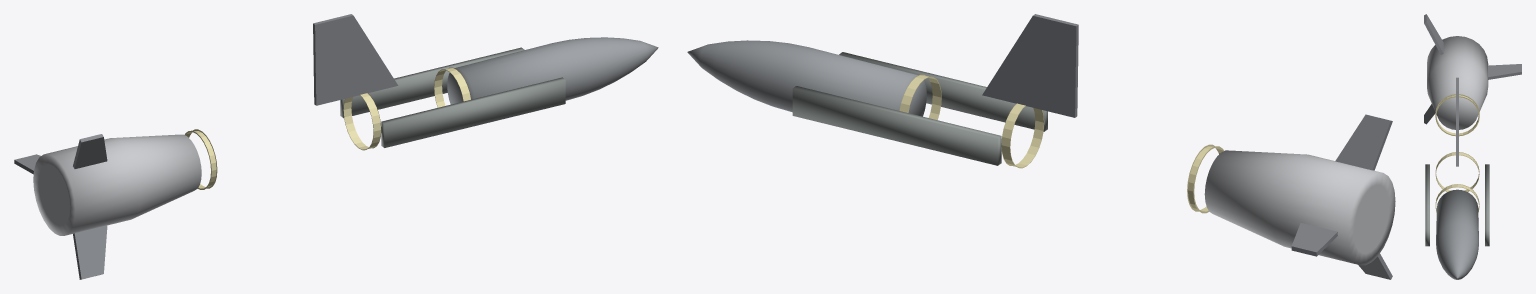
Rendered from RU_ASM_P700_LOD1.fbx.
3 views of the same model, side by side, from view 1: azimuth 30°, elevation 25°; view 2: azimuth 150°, elevation 25°; view 3: azimuth 270°, elevation 25° (orthographic). The views are drawn at different scales.
Visible parts, largest first — view 1: WPN_RU_ASM_P700_LOD1_Tail, WPN_RU_ASM_P700_LOD1_Body, WPN_RU_ASM_P700_LOD1_Nose, WPN_RU_ASM_P700_LOD1_Wings, WPN_RU_ASM_P700_LOD1_Fins, WPN_RU_ASM_P700_LOD1_Marking; view 2: WPN_RU_ASM_P700_LOD1_Tail, WPN_RU_ASM_P700_LOD1_Body, WPN_RU_ASM_P700_LOD1_Nose, WPN_RU_ASM_P700_LOD1_Wings, WPN_RU_ASM_P700_LOD1_Fins, WPN_RU_ASM_P700_LOD1_Marking; view 3: WPN_RU_ASM_P700_LOD1_Tail, WPN_RU_ASM_P700_LOD1_Body, WPN_RU_ASM_P700_LOD1_Fins, WPN_RU_ASM_P700_LOD1_Marking, WPN_RU_ASM_P700_LOD1_Nose, WPN_RU_ASM_P700_LOD1_Wings.
Part boxes in pixels (<box>): WPN_RU_ASM_P700_LOD1_Tail: <box>33,134,201,235</box>; WPN_RU_ASM_P700_LOD1_Body: <box>447,37,658,104</box>; WPN_RU_ASM_P700_LOD1_Nose: <box>340,47,565,147</box>; WPN_RU_ASM_P700_LOD1_Wings: <box>313,14,398,105</box>; WPN_RU_ASM_P700_LOD1_Fins: <box>14,134,107,279</box>; WPN_RU_ASM_P700_LOD1_Marking: <box>184,67,471,189</box>; WPN_RU_ASM_P700_LOD1_Tail: <box>1204,150,1395,265</box>; WPN_RU_ASM_P700_LOD1_Body: <box>687,40,926,116</box>; WPN_RU_ASM_P700_LOD1_Nose: <box>792,52,1047,165</box>; WPN_RU_ASM_P700_LOD1_Wings: <box>982,14,1078,117</box>; WPN_RU_ASM_P700_LOD1_Fins: <box>1291,114,1392,279</box>; WPN_RU_ASM_P700_LOD1_Marking: <box>899,74,1223,213</box>; WPN_RU_ASM_P700_LOD1_Tail: <box>1427,36,1488,129</box>; WPN_RU_ASM_P700_LOD1_Body: <box>1436,189,1478,279</box>; WPN_RU_ASM_P700_LOD1_Fins: <box>1424,14,1521,124</box>; WPN_RU_ASM_P700_LOD1_Marking: <box>1435,94,1479,212</box>; WPN_RU_ASM_P700_LOD1_Nose: <box>1425,164,1489,246</box>; WPN_RU_ASM_P700_LOD1_Wings: <box>1456,77,1458,166</box>.
Bounding box in the file's own units: 10 × 1.93 × 2.82.
